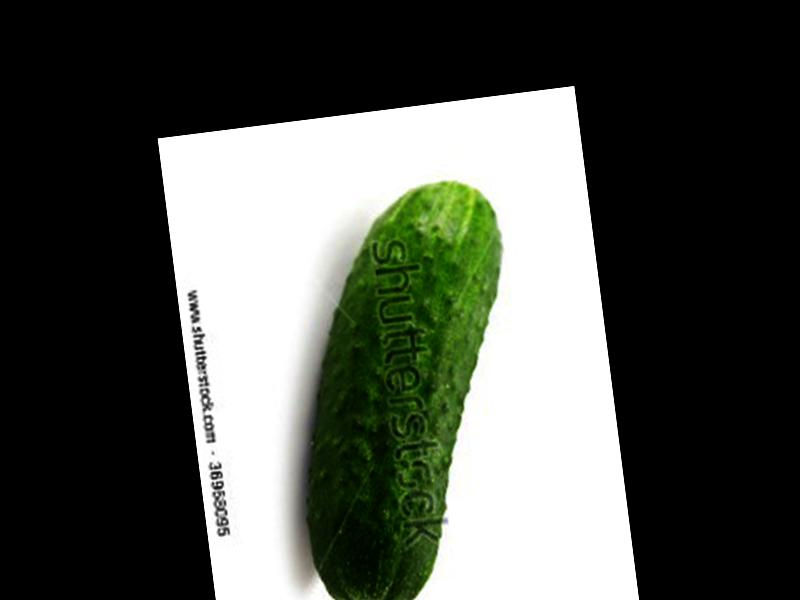Cucumber: (266, 175, 546, 600)
